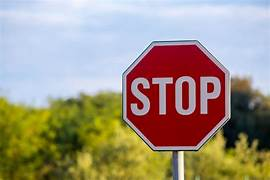stop: (122, 40, 232, 152)
